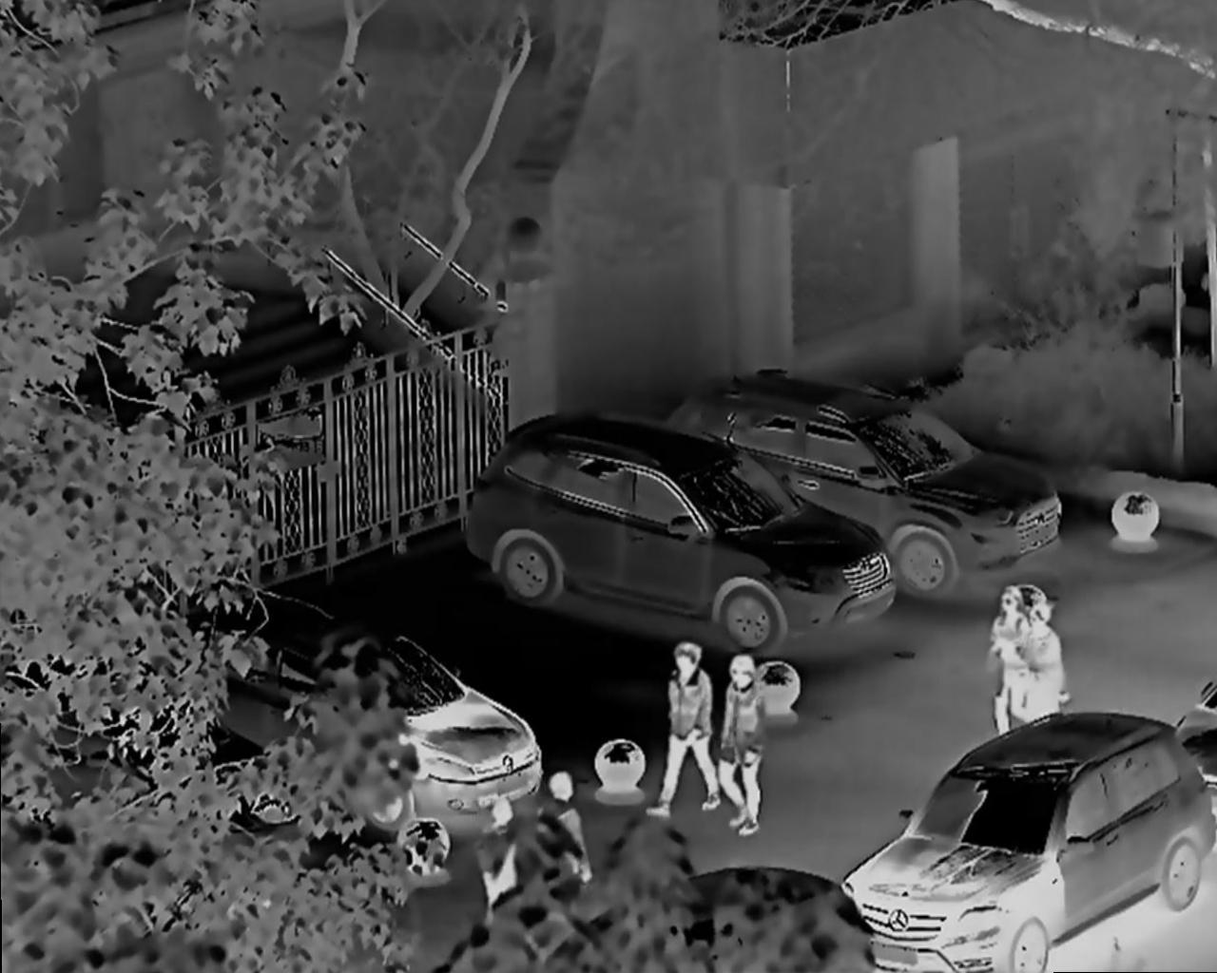person: (715, 648, 778, 844), (663, 648, 726, 811), (534, 766, 612, 888), (1007, 599, 1069, 728), (478, 799, 522, 927), (991, 581, 1026, 733)
